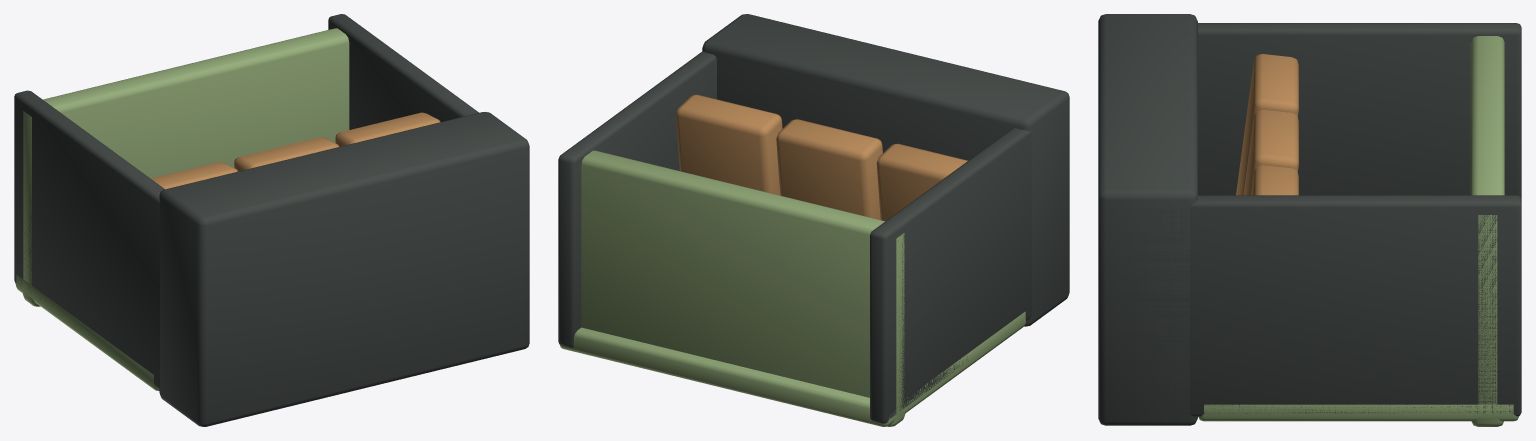
File: display_produce_mixed.glb
3 renders of one model, left to right at view 1: azimuth 30°, elevation 25°; view 2: azimuth 150°, elevation 25°; view 3: azimuth 270°, elevation 25°, orthographic. The views are drawn at different scales.
Visible parts, largest first — view 1: Plinth, Canopy, Post, Post.001, Backboard, ProduceBin.002, ProduceBin.001, ProduceBin; view 2: Canopy, Plinth, Post, Post.001, Backboard, ProduceBin.001, ProduceBin.002, ProduceBin; view 3: Post.001, Post, Plinth, Canopy, Backboard, ProduceBin, ProduceBin.001, ProduceBin.002.
Part boxes in pixels (x1,y1,x2,y2): Plinth: (159,112,529,426); Canopy: (22,28,349,306); Post: (14,90,189,401); Post.001: (328,14,478,129); Backboard: (15,274,159,390); ProduceBin.002: (335,112,440,146); ProduceBin.001: (234,137,339,171); ProduceBin: (151,162,237,189); Canopy: (581,150,905,426); Plinth: (702,14,1069,326); Post: (870,128,1031,423); Post.001: (558,51,716,347); Backboard: (559,311,1026,426); ProduceBin.001: (776,119,882,219); ProduceBin.002: (676,94,782,195); ProduceBin: (876,143,967,221); Post.001: (1123,195,1521,416); Post: (1198,23,1521,198); Plinth: (1098,14,1197,425); Canopy: (1470,36,1504,426); Backboard: (1198,404,1519,421); ProduceBin: (1236,54,1298,195); ProduceBin.001: (1243,109,1298,195); ProduceBin.002: (1251,165,1298,195).
Size of the model in its own units: 1.9 by 1.16 by 1.87.
